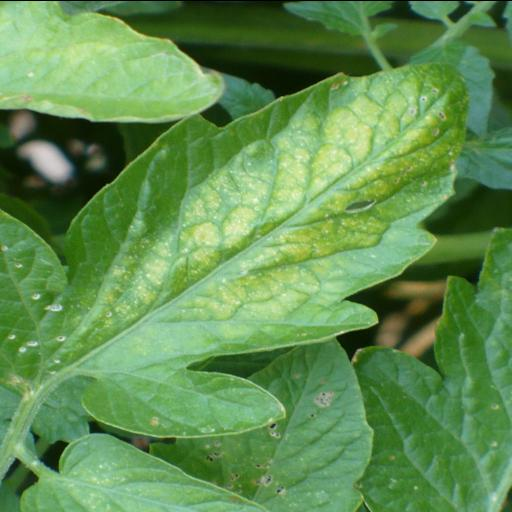disease_tomato: (0, 58, 473, 438)
